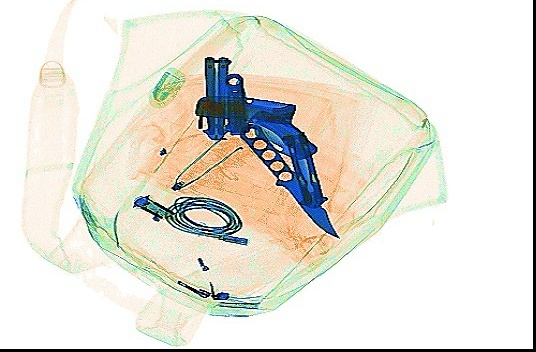knife: (238, 120, 339, 238), (246, 109, 329, 161), (279, 129, 329, 211), (193, 89, 296, 126), (200, 52, 231, 140), (222, 69, 251, 139)
